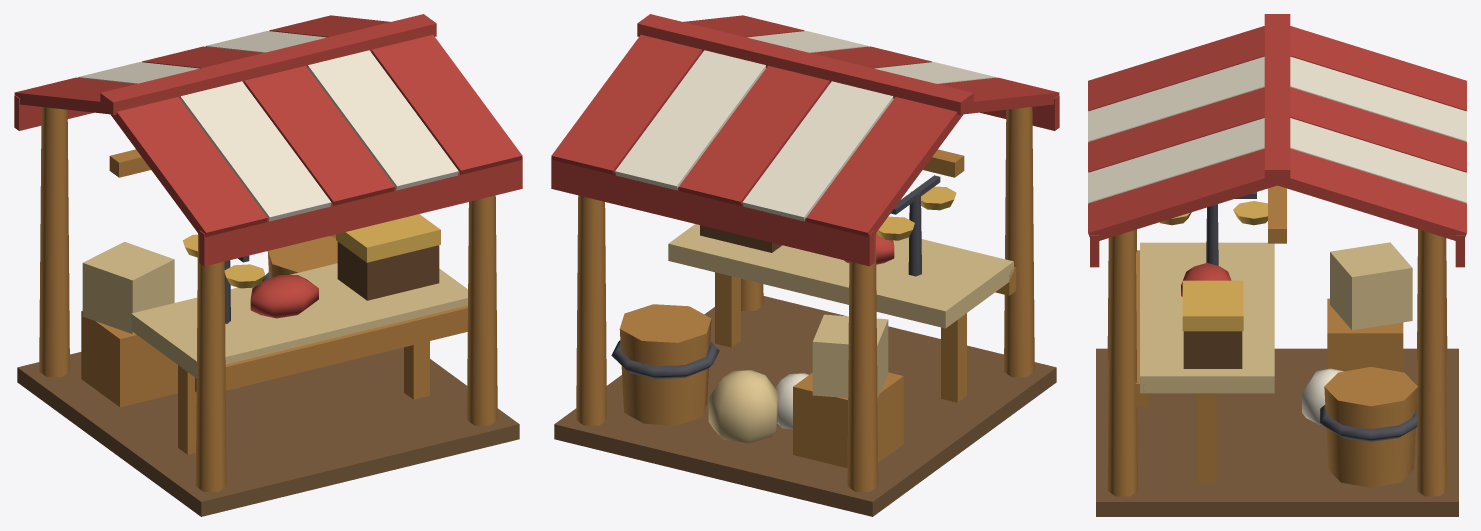
Rendered from building_market.glb.
The picture shows the model from 3 angles, left to right: view 1: azimuth 30°, elevation 25°; view 2: azimuth 150°, elevation 25°; view 3: azimuth 270°, elevation 25°; orthographic projection.
Visible parts, largest first — view 1: canopy, ground, table, canopy_valance_s, canopy_ridge, post_wn, post_ws, post_es, table_edge, crate_b, crate_a, coin_chest (+8 smaller); view 2: canopy, ground, table, canopy_valance_n, barrel, canopy_ridge, post_ws, post_wn, post_en, crate_a, sack_a, crate_b (+11 smaller); view 3: canopy, ground, table, barrel, post_en, post_es, crate_b, canopy_ridge, crate_a, coin_chest_lid, coin_chest, table_leg_e (+8 smaller).
Boxes of the visible parts, left/top/right/bottom form: canopy: left=14, top=15, right=522, bottom=236; ground: left=17, top=347, right=519, bottom=516; table: left=131, top=263, right=467, bottom=378; canopy_valance_s: left=199, top=157, right=522, bottom=266; canopy_ridge: left=100, top=14, right=436, bottom=115; post_wn: left=39, top=107, right=69, bottom=377; post_ws: left=195, top=233, right=226, bottom=491; post_es: left=467, top=195, right=497, bottom=425; table_edge: left=195, top=305, right=467, bottom=392; crate_b: left=82, top=241, right=174, bottom=334; crate_a: left=81, top=310, right=177, bottom=407; coin_chest: left=337, top=242, right=439, bottom=300; canopy: left=551, top=15, right=1059, bottom=236; ground: left=554, top=296, right=1056, bottom=516; table: left=668, top=224, right=1013, bottom=328; canopy_valance_n: left=551, top=157, right=874, bottom=266; barrel: left=619, top=304, right=711, bottom=425; canopy_ridge: left=637, top=14, right=973, bottom=115; post_ws: left=1004, top=107, right=1034, bottom=377; post_wn: left=847, top=233, right=878, bottom=491; post_en: left=576, top=195, right=606, bottom=425; crate_a: left=793, top=372, right=903, bottom=468; sack_a: left=708, top=370, right=778, bottom=443; crate_b: left=812, top=314, right=888, bottom=398; canopy: left=1088, top=26, right=1466, bottom=240; ground: left=1096, top=348, right=1458, bottom=516; table: left=1140, top=242, right=1274, bottom=393; barrel: left=1324, top=367, right=1417, bottom=487; post_en: left=1417, top=230, right=1447, bottom=496; post_es: left=1107, top=230, right=1137, bottom=496; crate_b: left=1330, top=242, right=1412, bottom=330; canopy_ridge: left=1264, top=14, right=1290, bottom=182; crate_a: left=1327, top=298, right=1403, bottom=372; coin_chest_lid: left=1182, top=280, right=1243, bottom=331; coin_chest: left=1183, top=331, right=1242, bottom=368; table_leg_e: left=1197, top=393, right=1216, bottom=483.
Size of the model in its own units: 0.315 by 0.3328 by 0.3233.
